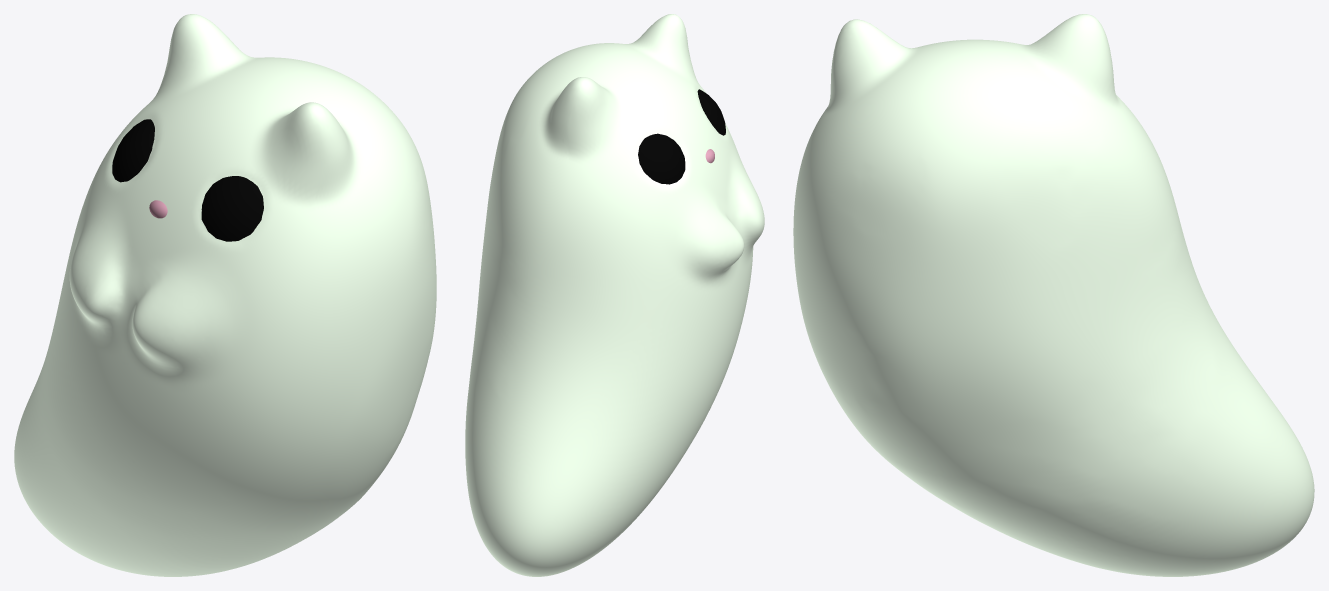
Rendered from spooky-cat.glb.
3 views of the same model, side by side, from view 1: azimuth 30°, elevation 25°; view 2: azimuth 150°, elevation 25°; view 3: azimuth 270°, elevation 25° (orthographic). The views are drawn at different scales.
Visible parts, largest first — view 1: Quad Sphere, Sphère.001, Sphère; view 2: Quad Sphere, Sphère, Sphère.001; view 3: Quad Sphere.
Part boxes in pixels (box(x1,y1,x2,y2)): Quad Sphere: box(14, 14, 436, 576); Sphère.001: box(201, 176, 263, 241); Sphère: box(112, 119, 154, 182); Quad Sphere: box(465, 14, 764, 576); Sphère: box(638, 133, 685, 184); Sphère.001: box(697, 89, 725, 135); Quad Sphere: box(793, 14, 1314, 576).
Size of the model in its own units: 1.95 by 3.46 by 2.93.
